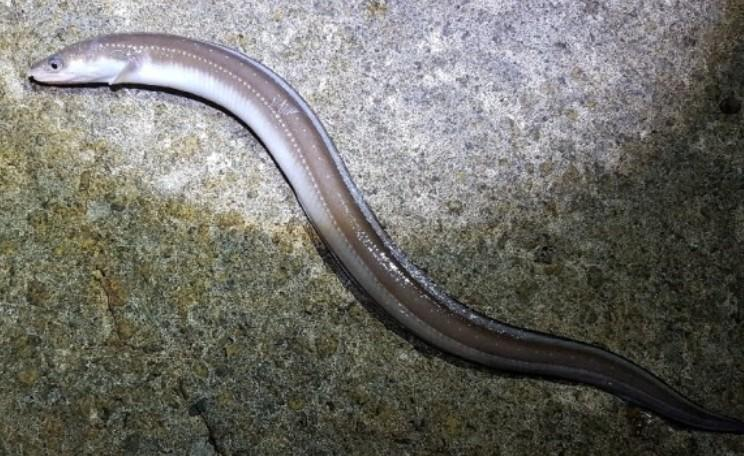fish: (29, 34, 743, 432)
